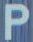Parking: (3, 2, 28, 41)
